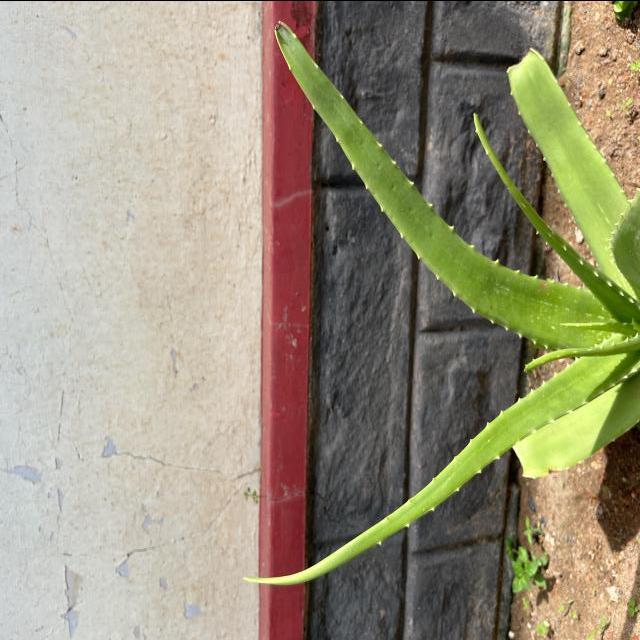Aloe vera: (268, 18, 640, 344), (238, 348, 634, 590)
